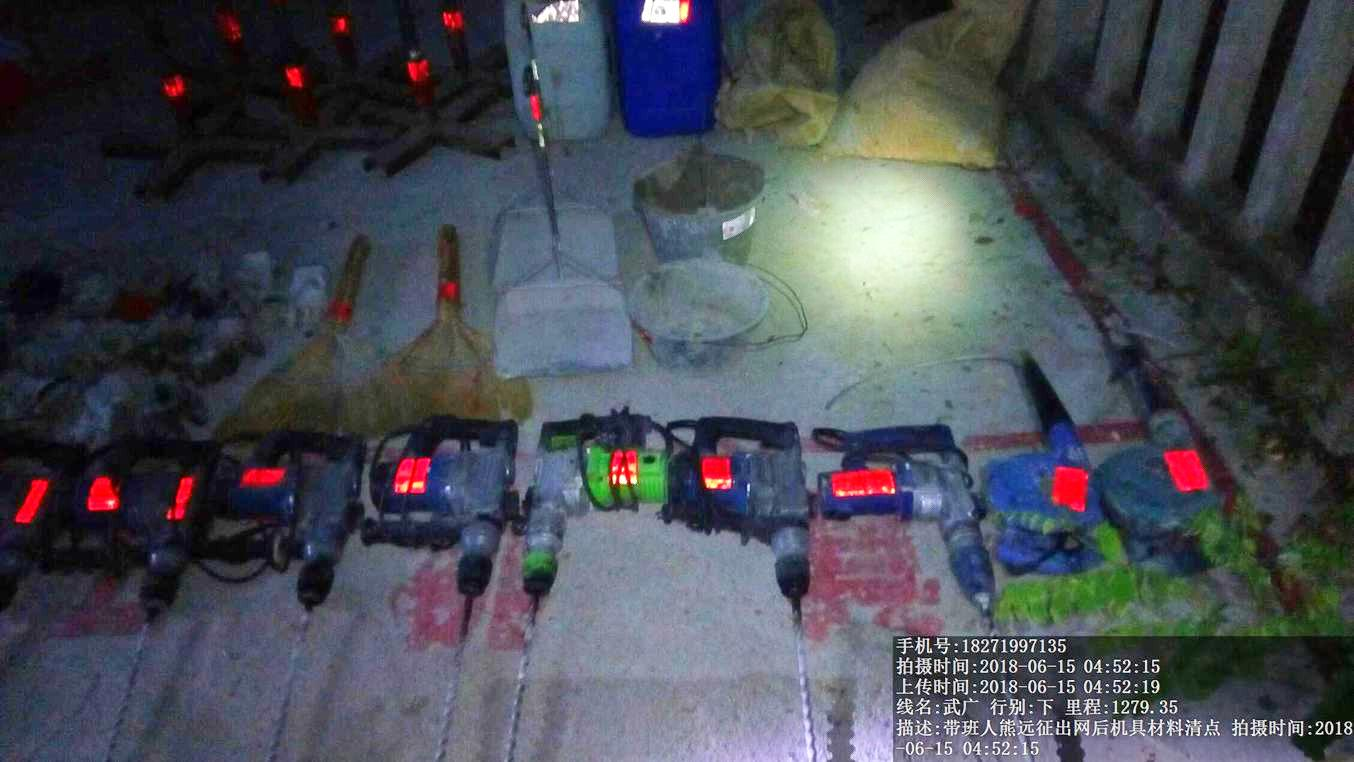DZ: (501, 398, 670, 693), (672, 403, 814, 717), (814, 412, 1000, 638), (216, 444, 366, 688), (373, 417, 505, 689)
GFJ: (975, 356, 1100, 576), (1105, 353, 1228, 534)
SB: (244, 237, 383, 439), (387, 218, 514, 417)
SNT: (624, 250, 800, 364), (635, 146, 761, 254)
